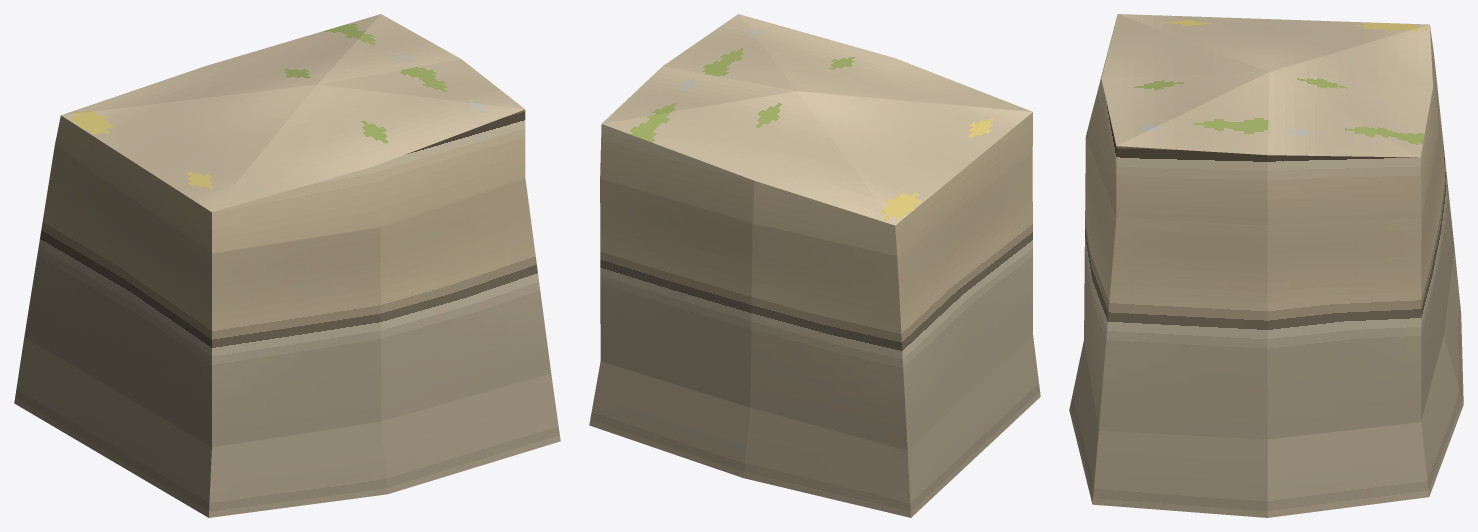
Rendered from p_bi_boulder_s.glb.
The picture shows the model from 3 angles, left to right: view 1: azimuth 30°, elevation 25°; view 2: azimuth 150°, elevation 25°; view 3: azimuth 270°, elevation 25°; orthographic projection. The views are drawn at different scales.
Parts seen in each view (by area): view 1: p_bi_boulder_s_lod0; view 2: p_bi_boulder_s_lod0; view 3: p_bi_boulder_s_lod0.
Boxes of the visible parts, left/top/right/bottom form: p_bi_boulder_s_lod0: left=14, top=14, right=560, bottom=517; p_bi_boulder_s_lod0: left=589, top=14, right=1040, bottom=517; p_bi_boulder_s_lod0: left=1069, top=14, right=1463, bottom=517.
Size of what is drawn, in the model's own units: 1.54 by 1.24 by 1.26.
1 material, 1 textured.
